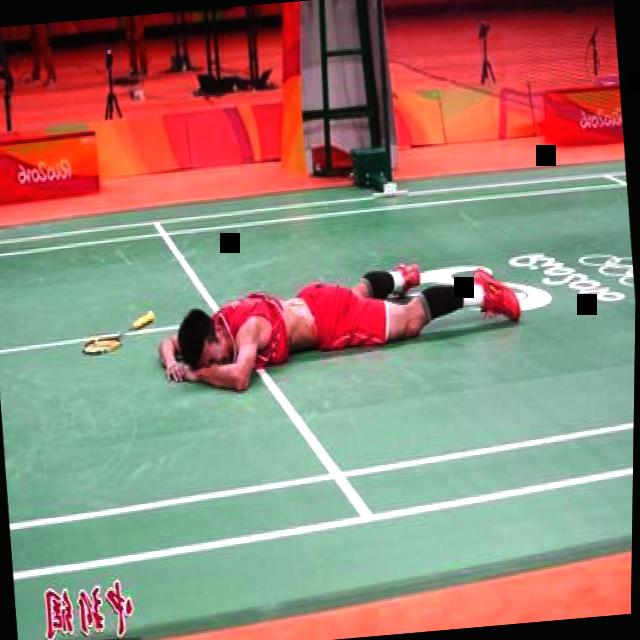Fall-Detected: (158, 227, 539, 399)
